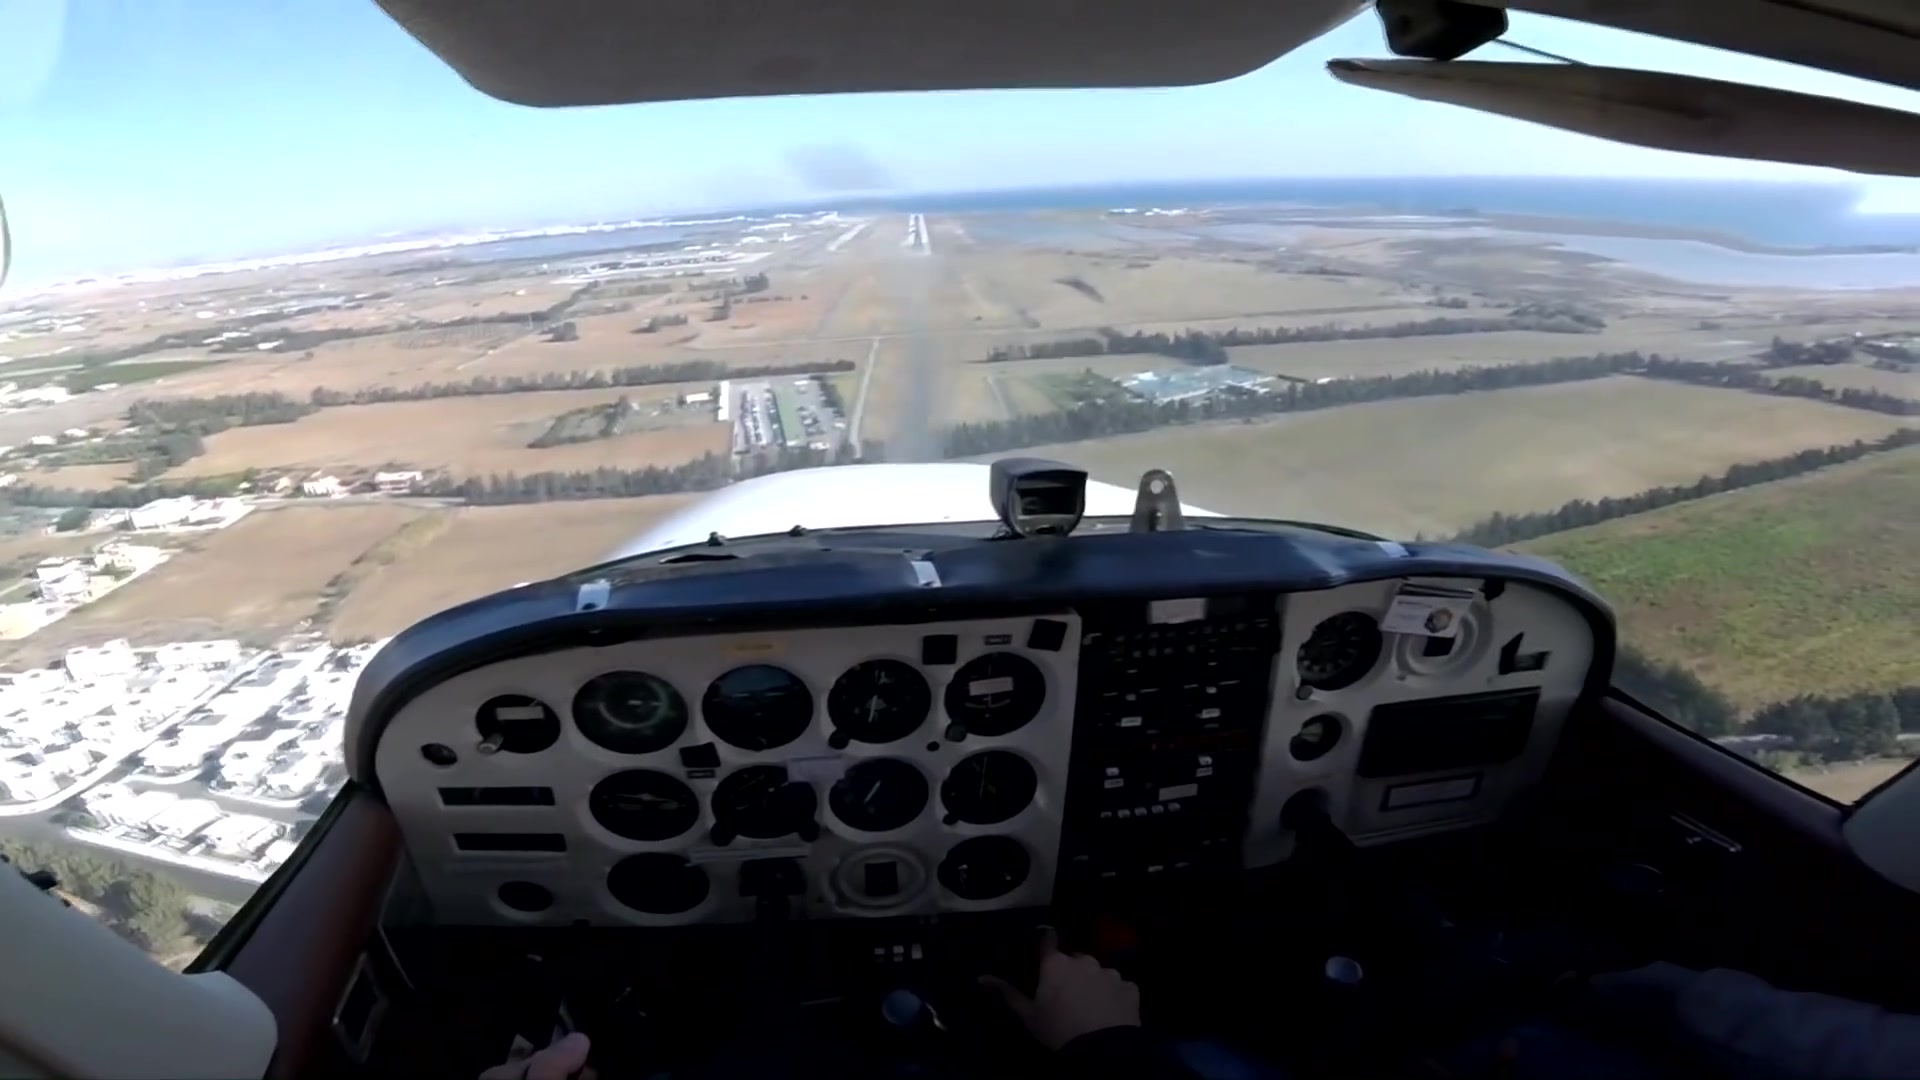runway: (901, 214, 935, 260)
